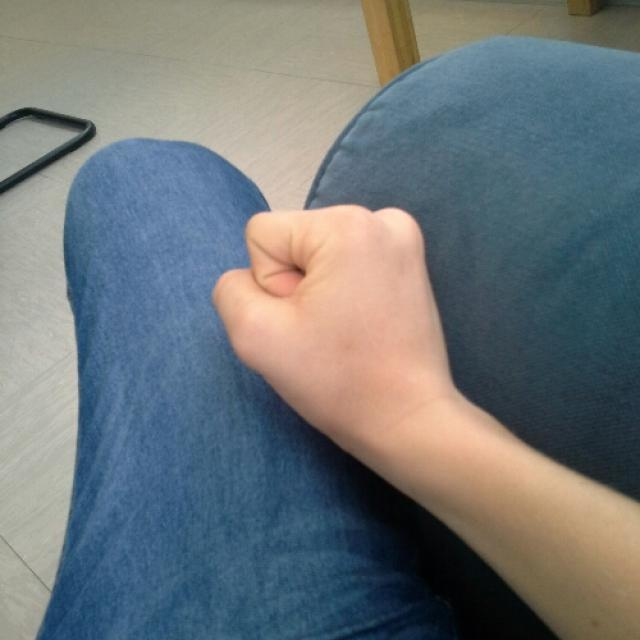rock: (214, 205, 445, 460)
